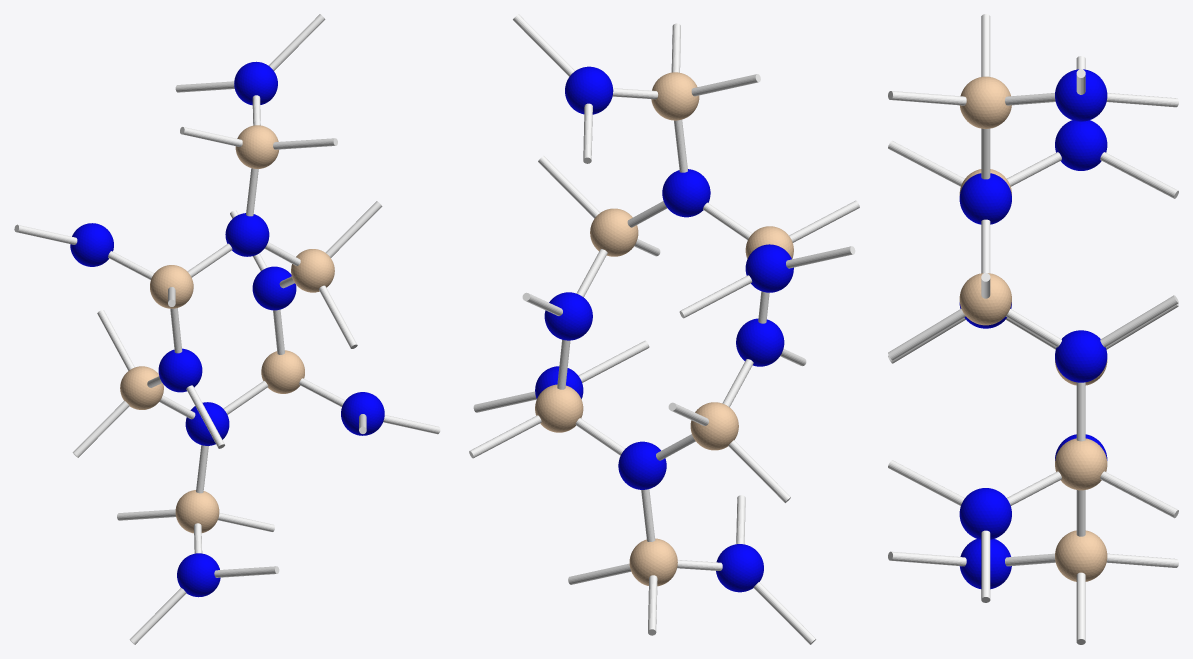
Rendered from structure_mpstyle.glb.
3 views of the same model, side by side, from view 1: azimuth 30°, elevation 25°; view 2: azimuth 150°, elevation 25°; view 3: azimuth 270°, elevation 25° (orthographic). The views are drawn at different scales.
Visible parts, largest first — view 1: world; view 2: world; view 3: world.
Boxes of the visible parts, x1,y1,x2,y2 form: world: (14, 14, 440, 644); world: (469, 14, 859, 644); world: (888, 14, 1178, 644).
Size of the model in its own units: 8.09 by 10.98 by 4.43.
